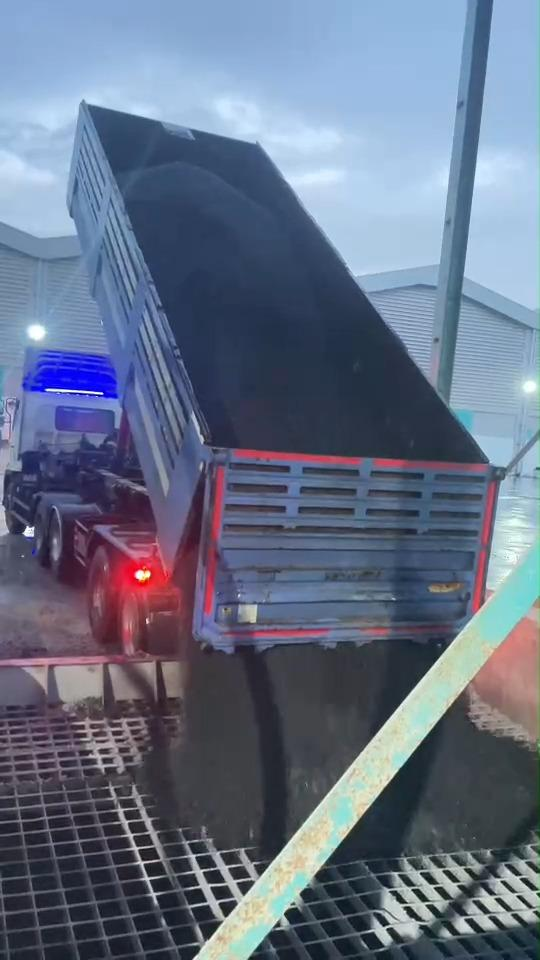gravel: (122, 164, 368, 453), (178, 640, 436, 855), (350, 704, 537, 855)
